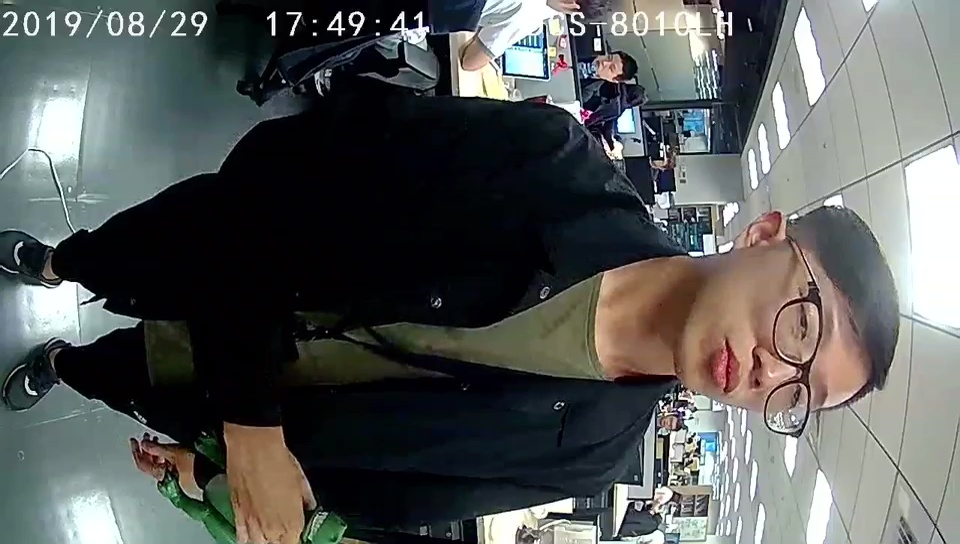rex: (156, 431, 346, 544)
